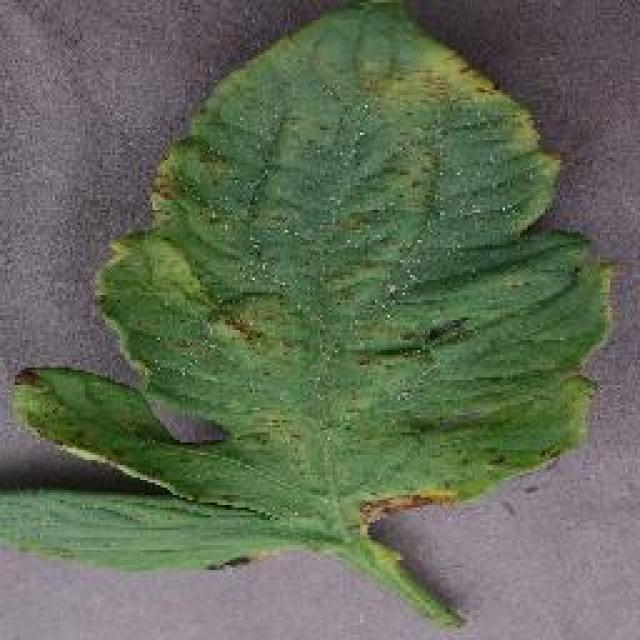Tomato bacterial spot leaf: (0, 0, 620, 522)
